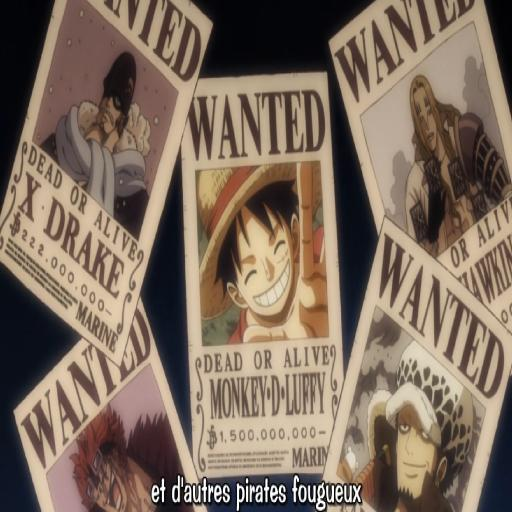Luffy: (194, 170, 325, 355)
